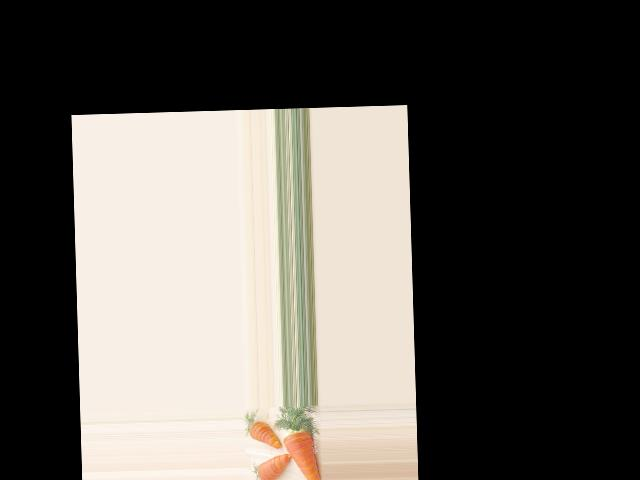carrot: (279, 425, 323, 480)
